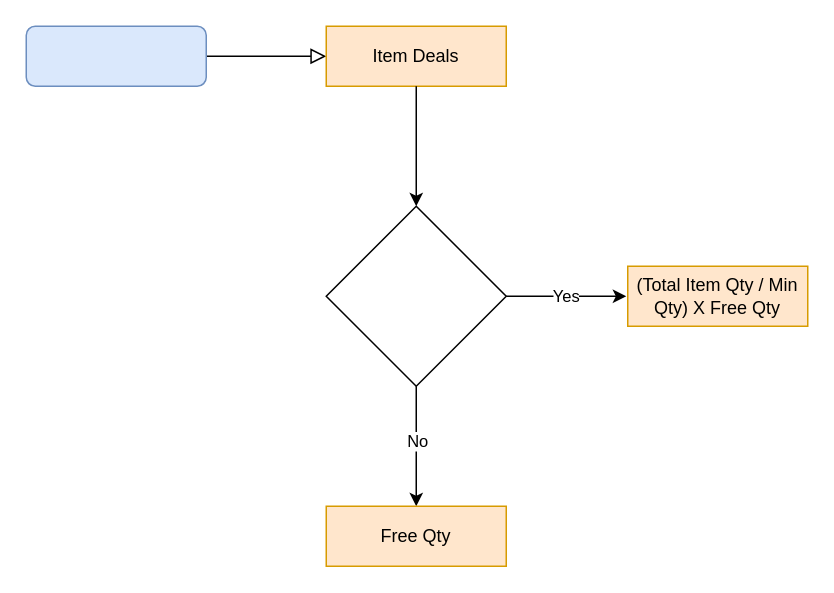
This 834x593 diagram has some shape labels left out. The box of each missing label's shape, as (x1, y1, x2, y2) in pixels:
Is Recursive?: (325, 205, 506, 386)
Item Qty: (25, 25, 206, 86)
